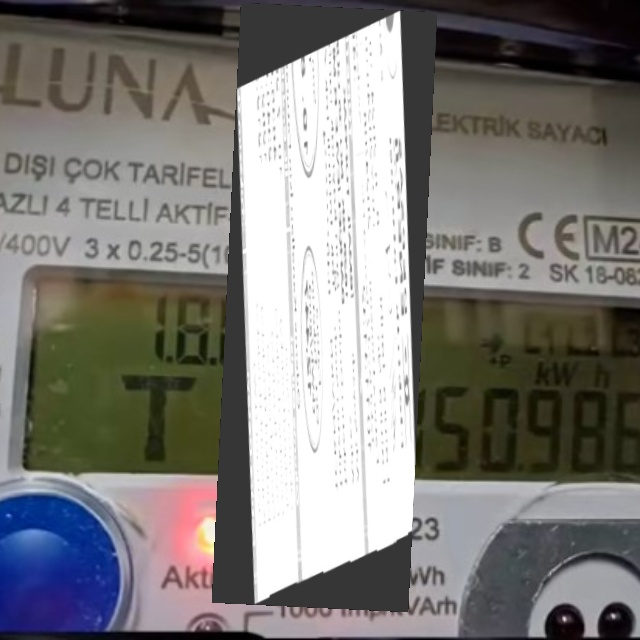electricity-bill: (212, 2, 436, 611)
